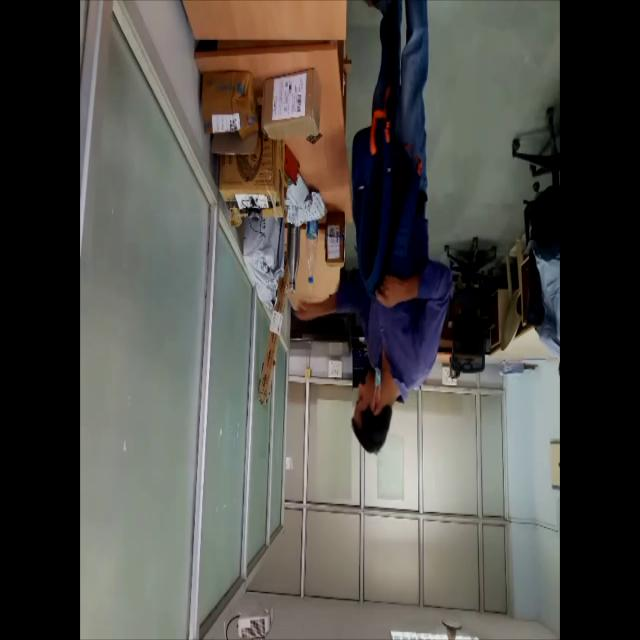shoplifting: (296, 0, 452, 462)
